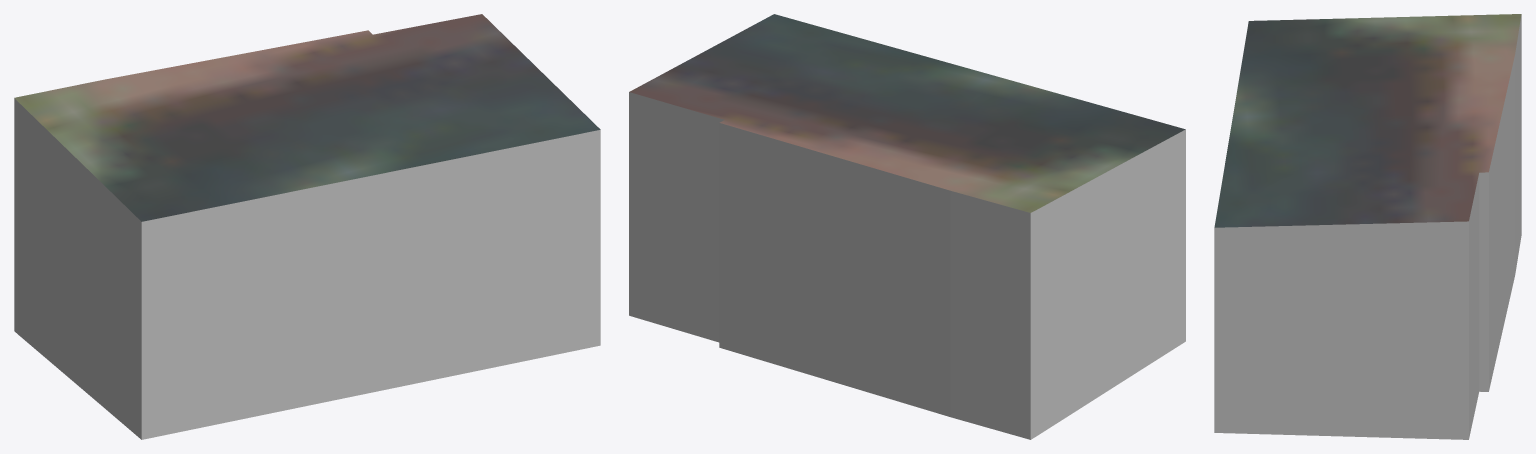
File: DEBW_0010007Tx7H.gltf
The picture shows the model from 3 angles, left to right: view 1: azimuth 30°, elevation 25°; view 2: azimuth 150°, elevation 25°; view 3: azimuth 270°, elevation 25°; orthographic projection. The views are drawn at different scales.
Visible parts, largest first — view 1: Z_UP; view 2: Z_UP; view 3: Z_UP.
Part boxes in pixels (box(x1,y1,x2,y2)): Z_UP: box(14, 14, 600, 439); Z_UP: box(629, 14, 1185, 439); Z_UP: box(1214, 14, 1521, 439).
Bounding box in the file's own units: 6.28 × 3.07 × 3.85.
Materials: 2 (1 with a texture image).
